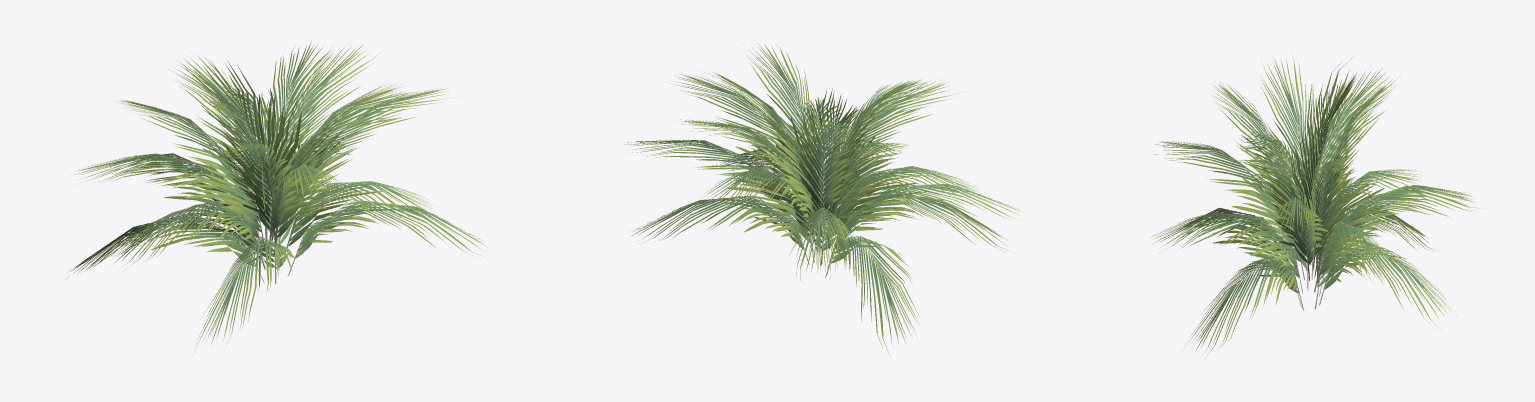
File: m_palm_p2_30_leaf_0.001_lev2.glb
The picture shows the model from 3 angles, left to right: view 1: azimuth 30°, elevation 25°; view 2: azimuth 150°, elevation 25°; view 3: azimuth 270°, elevation 25°; orthographic projection. The views are drawn at different scales.
Parts seen in each view (by area): view 1: m_palm_p2_30_leaf_0.001_lev2; view 2: m_palm_p2_30_leaf_0.001_lev2; view 3: m_palm_p2_30_leaf_0.001_lev2.
Boxes of the visible parts, x1,y1,x2,y2 form: m_palm_p2_30_leaf_0.001_lev2: [68, 41, 488, 352]; m_palm_p2_30_leaf_0.001_lev2: [622, 43, 1024, 357]; m_palm_p2_30_leaf_0.001_lev2: [1150, 53, 1487, 360].
Size of the model in its own units: 3.66 by 1.99 by 2.86.
1 material, 1 textured.
